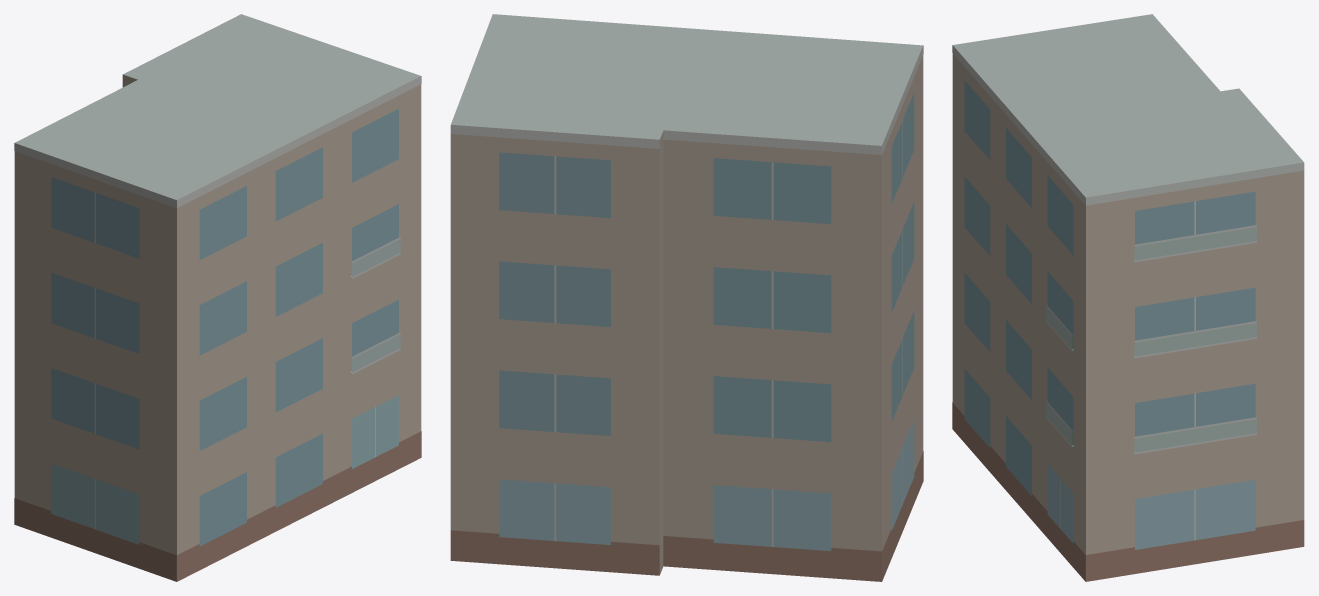
Rendered from survey-upis-32930481.glb.
3 renders of one model, left to right at view 1: azimuth 30°, elevation 25°; view 2: azimuth 150°, elevation 25°; view 3: azimuth 270°, elevation 25°, orthographic. The views are drawn at different scales.
Parts seen in each view (by area): view 1: survey-upis-32930481.tmp; view 2: survey-upis-32930481.tmp; view 3: survey-upis-32930481.tmp.
Part boxes in pixels (box(x1,y1,x2,y2)): survey-upis-32930481.tmp: box(14, 14, 421, 581); survey-upis-32930481.tmp: box(450, 14, 923, 581); survey-upis-32930481.tmp: box(952, 14, 1304, 581).
Size of the model in its own units: 11.9 by 11.6 by 9.63.
